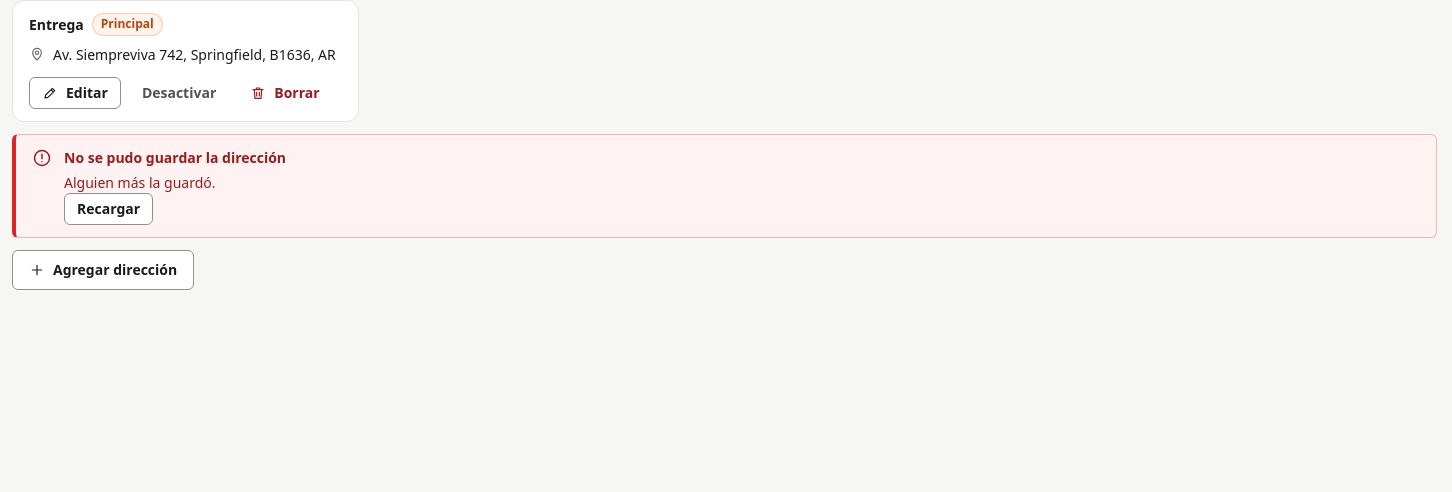
it: EditorDirecciones · conflictos y permisos › un conflicto ofrece recargar y conserva lo escrito
The width and height of the screenshot is (1452, 492).
Click the button "Editar" at (75, 93), box [29, 77, 121, 109]
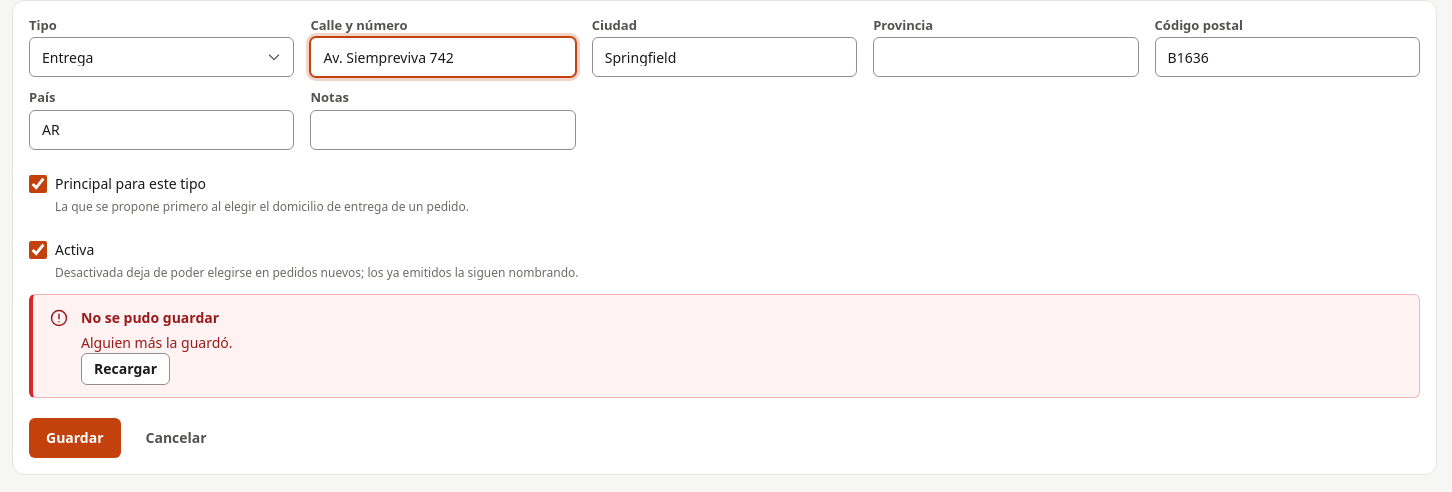
Check: the button "Recargar" is shown, box [81, 352, 170, 384]
Check: the field labelled "Calle y número" holds "Av. Siempreviva 742", box [310, 37, 576, 77]
